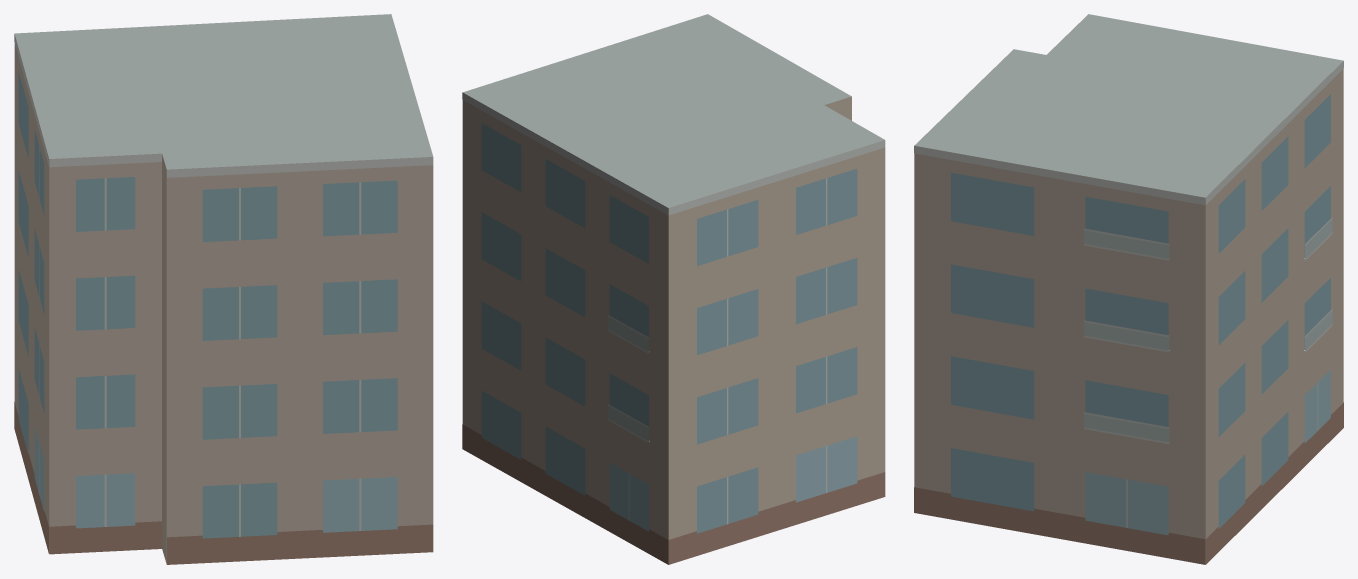
File: survey-upis-32970848.glb
The picture shows the model from 3 angles, left to right: view 1: azimuth 30°, elevation 25°; view 2: azimuth 150°, elevation 25°; view 3: azimuth 270°, elevation 25°; orthographic projection. The views are drawn at different scales.
Parts seen in each view (by area): view 1: survey-upis-32970848.tmp; view 2: survey-upis-32970848.tmp; view 3: survey-upis-32970848.tmp.
Boxes of the visible parts, bbox=[...] form: survey-upis-32970848.tmp: bbox=[14, 14, 433, 564]; survey-upis-32970848.tmp: bbox=[462, 14, 885, 564]; survey-upis-32970848.tmp: bbox=[914, 14, 1343, 564].
Bounding box in the file's own units: 12.57 × 11.7 × 12.42.
